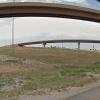Bridge: (1, 1, 98, 32)
